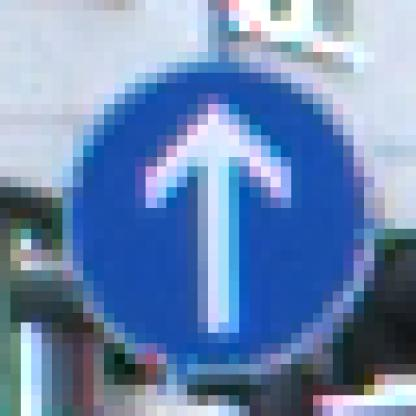AheadOnly: (53, 53, 355, 365)
